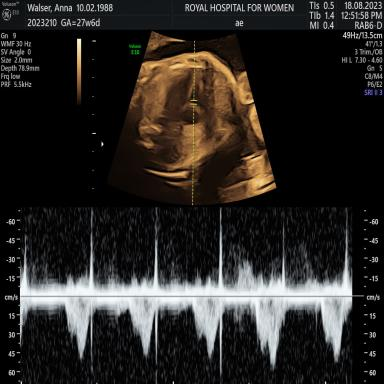Ultrasound-Waves: (29, 208, 353, 384)
